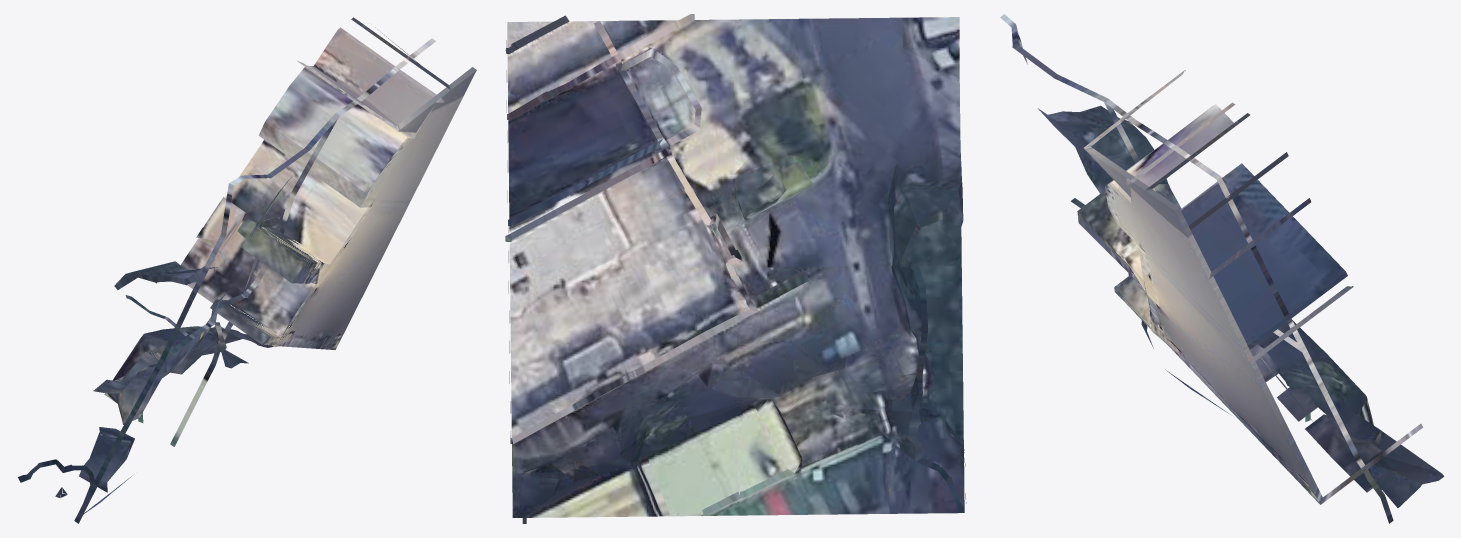
The picture shows the model from 3 angles, left to right: view 1: azimuth 30°, elevation 25°; view 2: azimuth 150°, elevation 25°; view 3: azimuth 270°, elevation 25°; orthographic projection. The views are drawn at different scales.
Size of the model in its own units: 43.28 by 37.71 by 35.9.
1 material, 1 textured.
